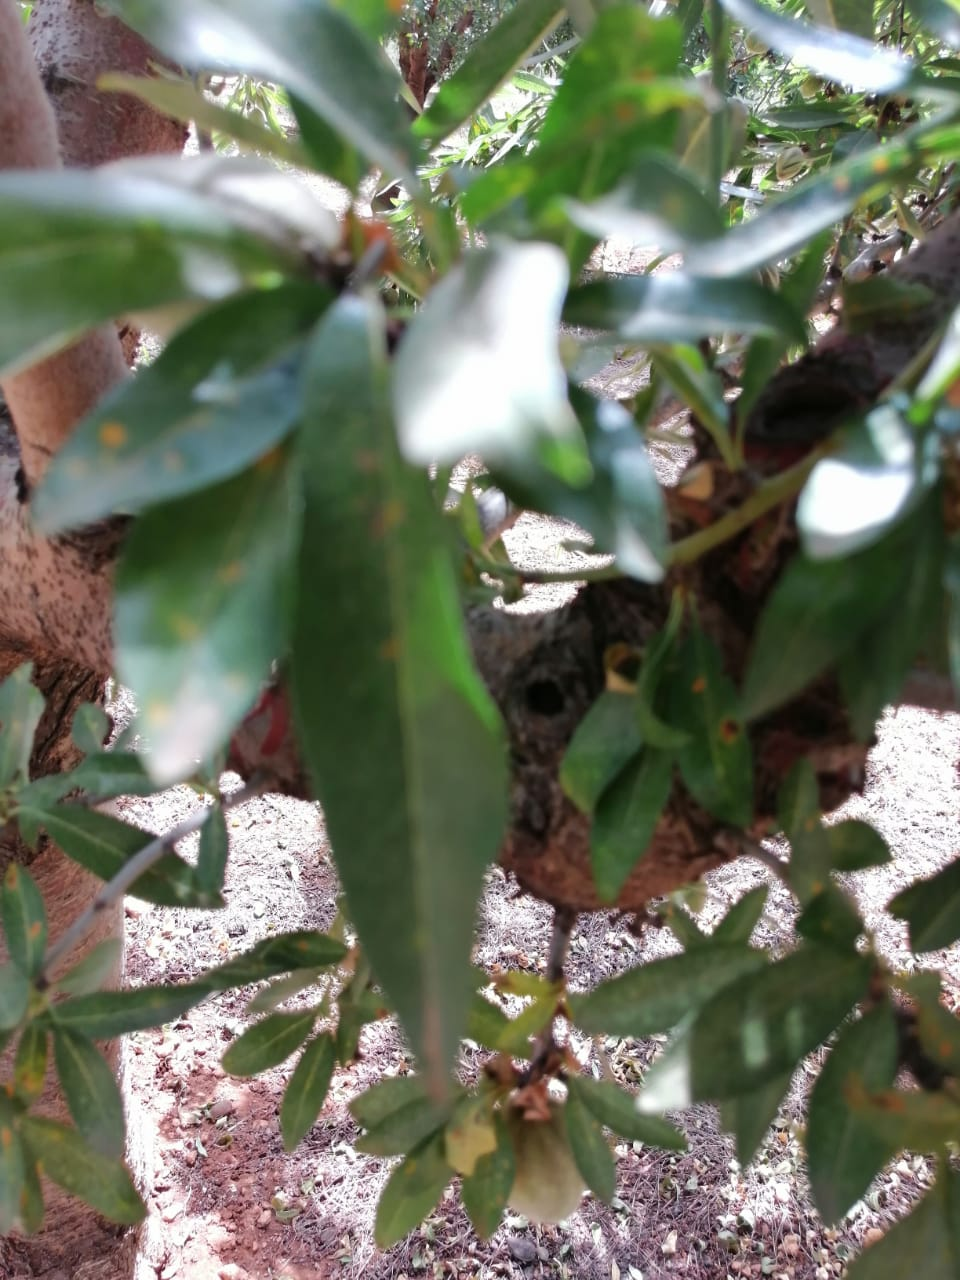acariens: (279, 271, 510, 1098)
